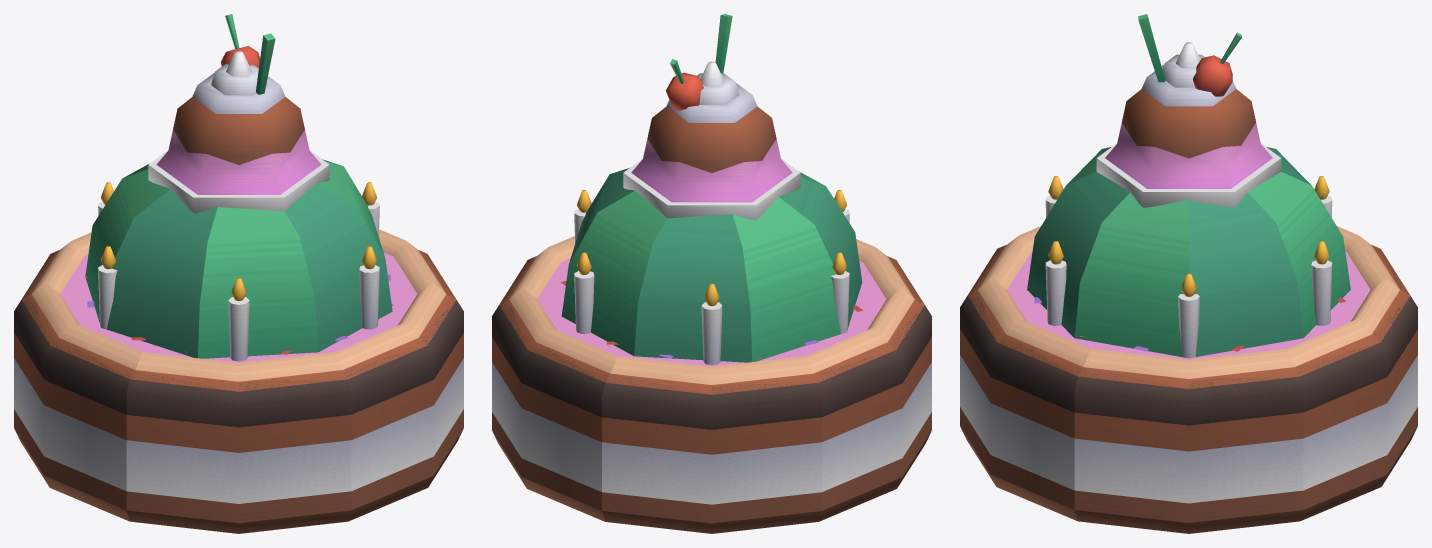
Rendered from food.glb.
3 renders of one model, left to right at view 1: azimuth 30°, elevation 25°; view 2: azimuth 150°, elevation 25°; view 3: azimuth 270°, elevation 25°, orthographic. The views are drawn at different scales.
Visible parts, largest first — view 1: slice (×10), sundae, straw, cherry; view 2: slice (×10), sundae, cherry, straw; view 3: slice (×9), sundae, cherry, straw.
Boxes of the visible parts, x1,y1,x2,y2 form: slice (×10): (14,161,463,533); sundae: (148,51,329,213); straw: (256,33,275,94); cherry: (220,14,259,68); slice (×10): (492,169,931,533); sundae: (623,61,800,220); cherry: (665,59,703,110); straw: (715,14,732,73); slice (×9): (960,172,1417,533); sundae: (1096,42,1281,207); cherry: (1193,32,1241,96); straw: (1138,14,1164,82).
Bounding box in the file's own units: 0.6392 × 0.6679 × 0.6392.
1 material, 1 textured.
